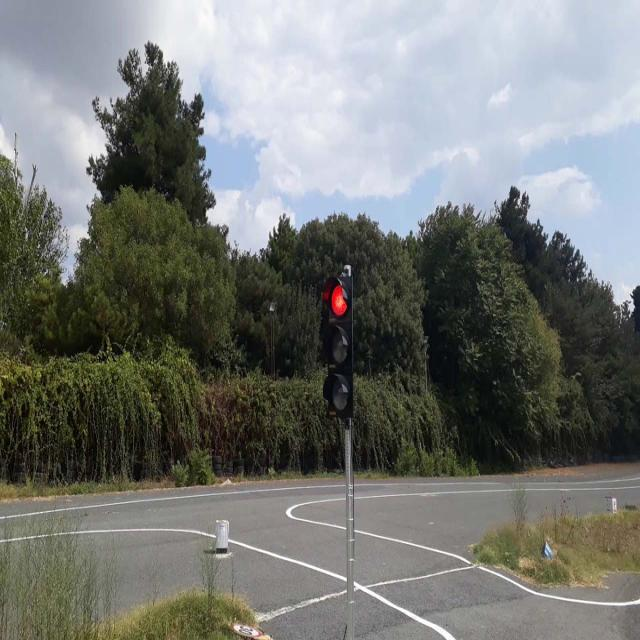kirmizi: (320, 274, 350, 418)
